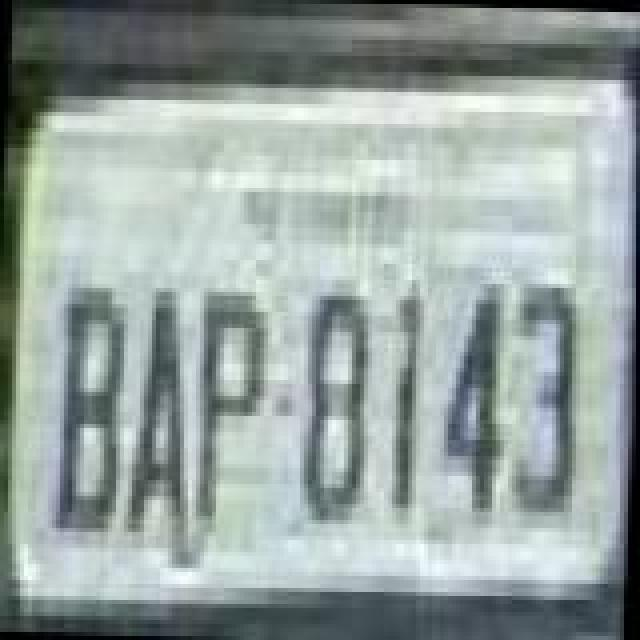1: (382, 282, 430, 526)
3: (504, 268, 588, 532)
4: (440, 274, 516, 522)
8: (296, 276, 380, 524)
A: (122, 278, 198, 542)
B: (54, 276, 130, 540)
P: (194, 282, 270, 530)
